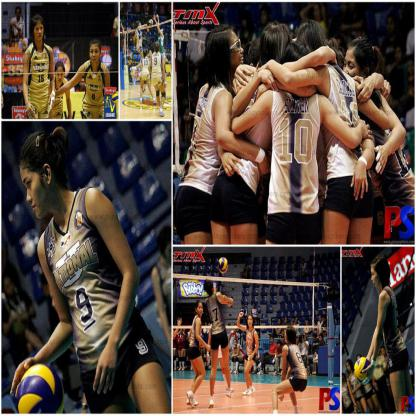face: (23, 164, 49, 218), (228, 33, 245, 70), (344, 53, 361, 89), (164, 241, 174, 263), (90, 45, 100, 64), (5, 280, 15, 296), (372, 267, 380, 287), (35, 23, 44, 40), (57, 68, 65, 86), (198, 305, 204, 316), (249, 317, 254, 327), (81, 79, 86, 88), (347, 364, 352, 373), (17, 11, 21, 20), (382, 349, 386, 358), (401, 326, 404, 333), (150, 51, 153, 57), (314, 338, 317, 344), (320, 336, 323, 342), (323, 318, 326, 324), (319, 316, 322, 322), (292, 320, 295, 326), (271, 338, 274, 343), (278, 343, 281, 348), (282, 337, 285, 342), (306, 322, 309, 327), (140, 22, 142, 29), (13, 41, 15, 47), (161, 30, 164, 34), (235, 325, 237, 331), (16, 42, 18, 47), (235, 341, 237, 346), (286, 319, 288, 324), (279, 320, 281, 325), (181, 329, 183, 333), (296, 319, 298, 323), (243, 305, 245, 309), (254, 304, 256, 308), (129, 58, 131, 61), (168, 55, 170, 58), (133, 56, 134, 59), (139, 56, 140, 59), (130, 50, 131, 53), (167, 50, 168, 52)
